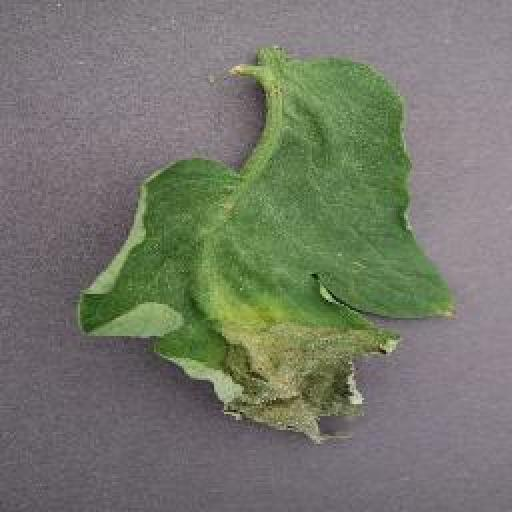Late Blight: (72, 48, 457, 449)
